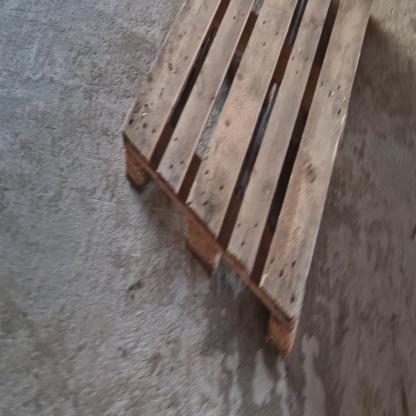BoxFace: (115, 0, 378, 379)
